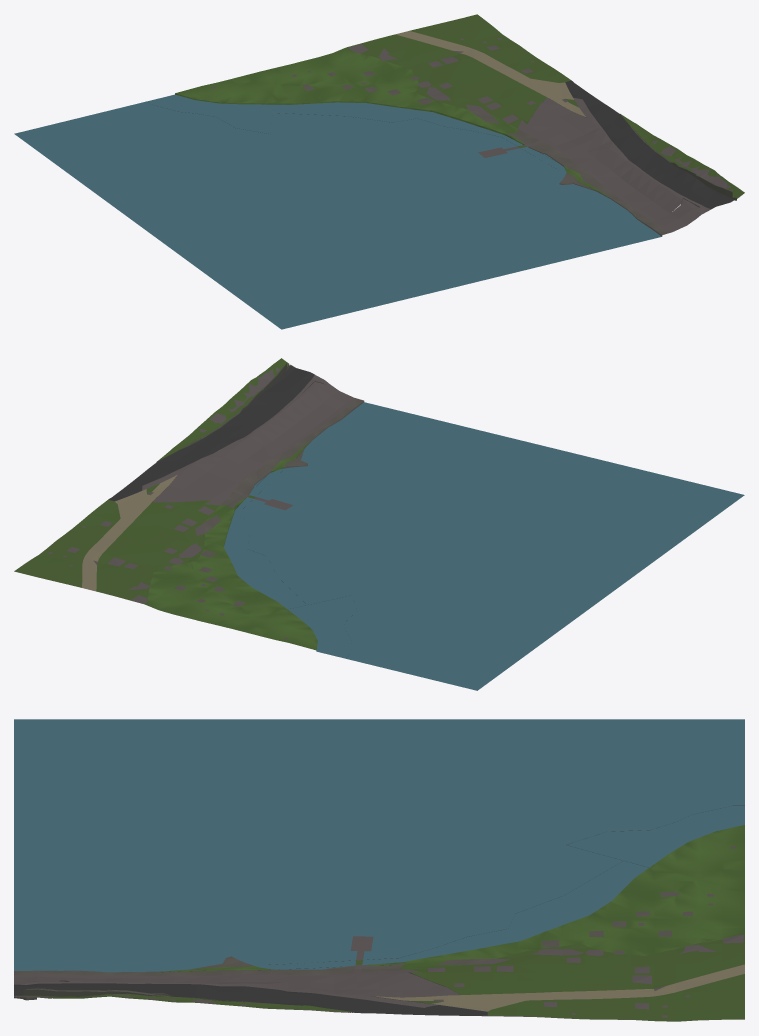
The picture shows the model from 3 angles, top to bottom: view 1: azimuth 30°, elevation 25°; view 2: azimuth 150°, elevation 25°; view 3: azimuth 270°, elevation 25°; orthographic projection. The views are drawn at different scales.
Visible parts, largest first — view 1: c_m08_m13, append:c_m08_m13; view 2: c_m08_m13; view 3: c_m08_m13.
Part boxes in pixels (x1,y1,x2,y2): c_m08_m13: (14, 14, 744, 329); append:c_m08_m13: (175, 93, 662, 236); c_m08_m13: (14, 358, 744, 690); c_m08_m13: (14, 719, 744, 1021).
Bounding box in the file's own units: 128 × 6.37 × 128.
